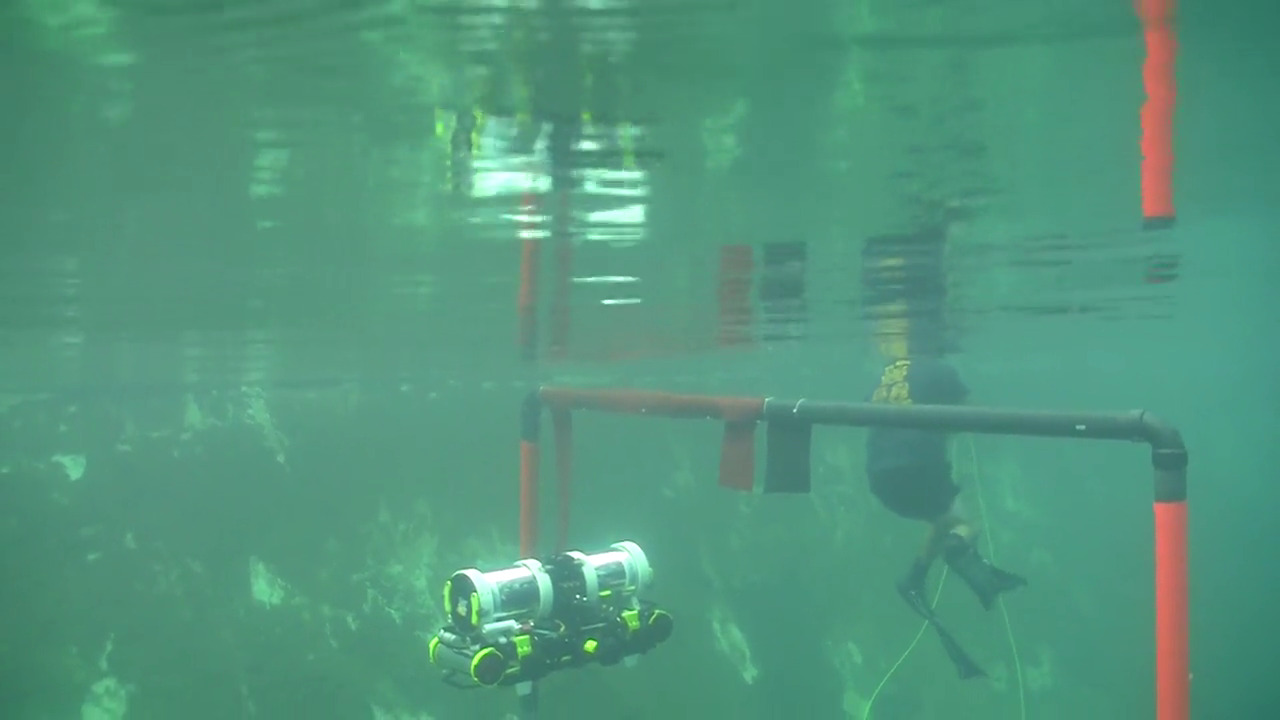gate: (501, 361, 1202, 720)
